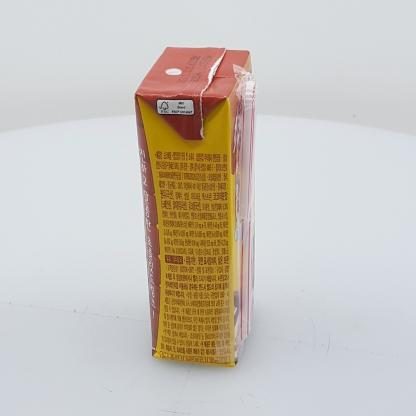---------180ML: (134, 47, 258, 367)
